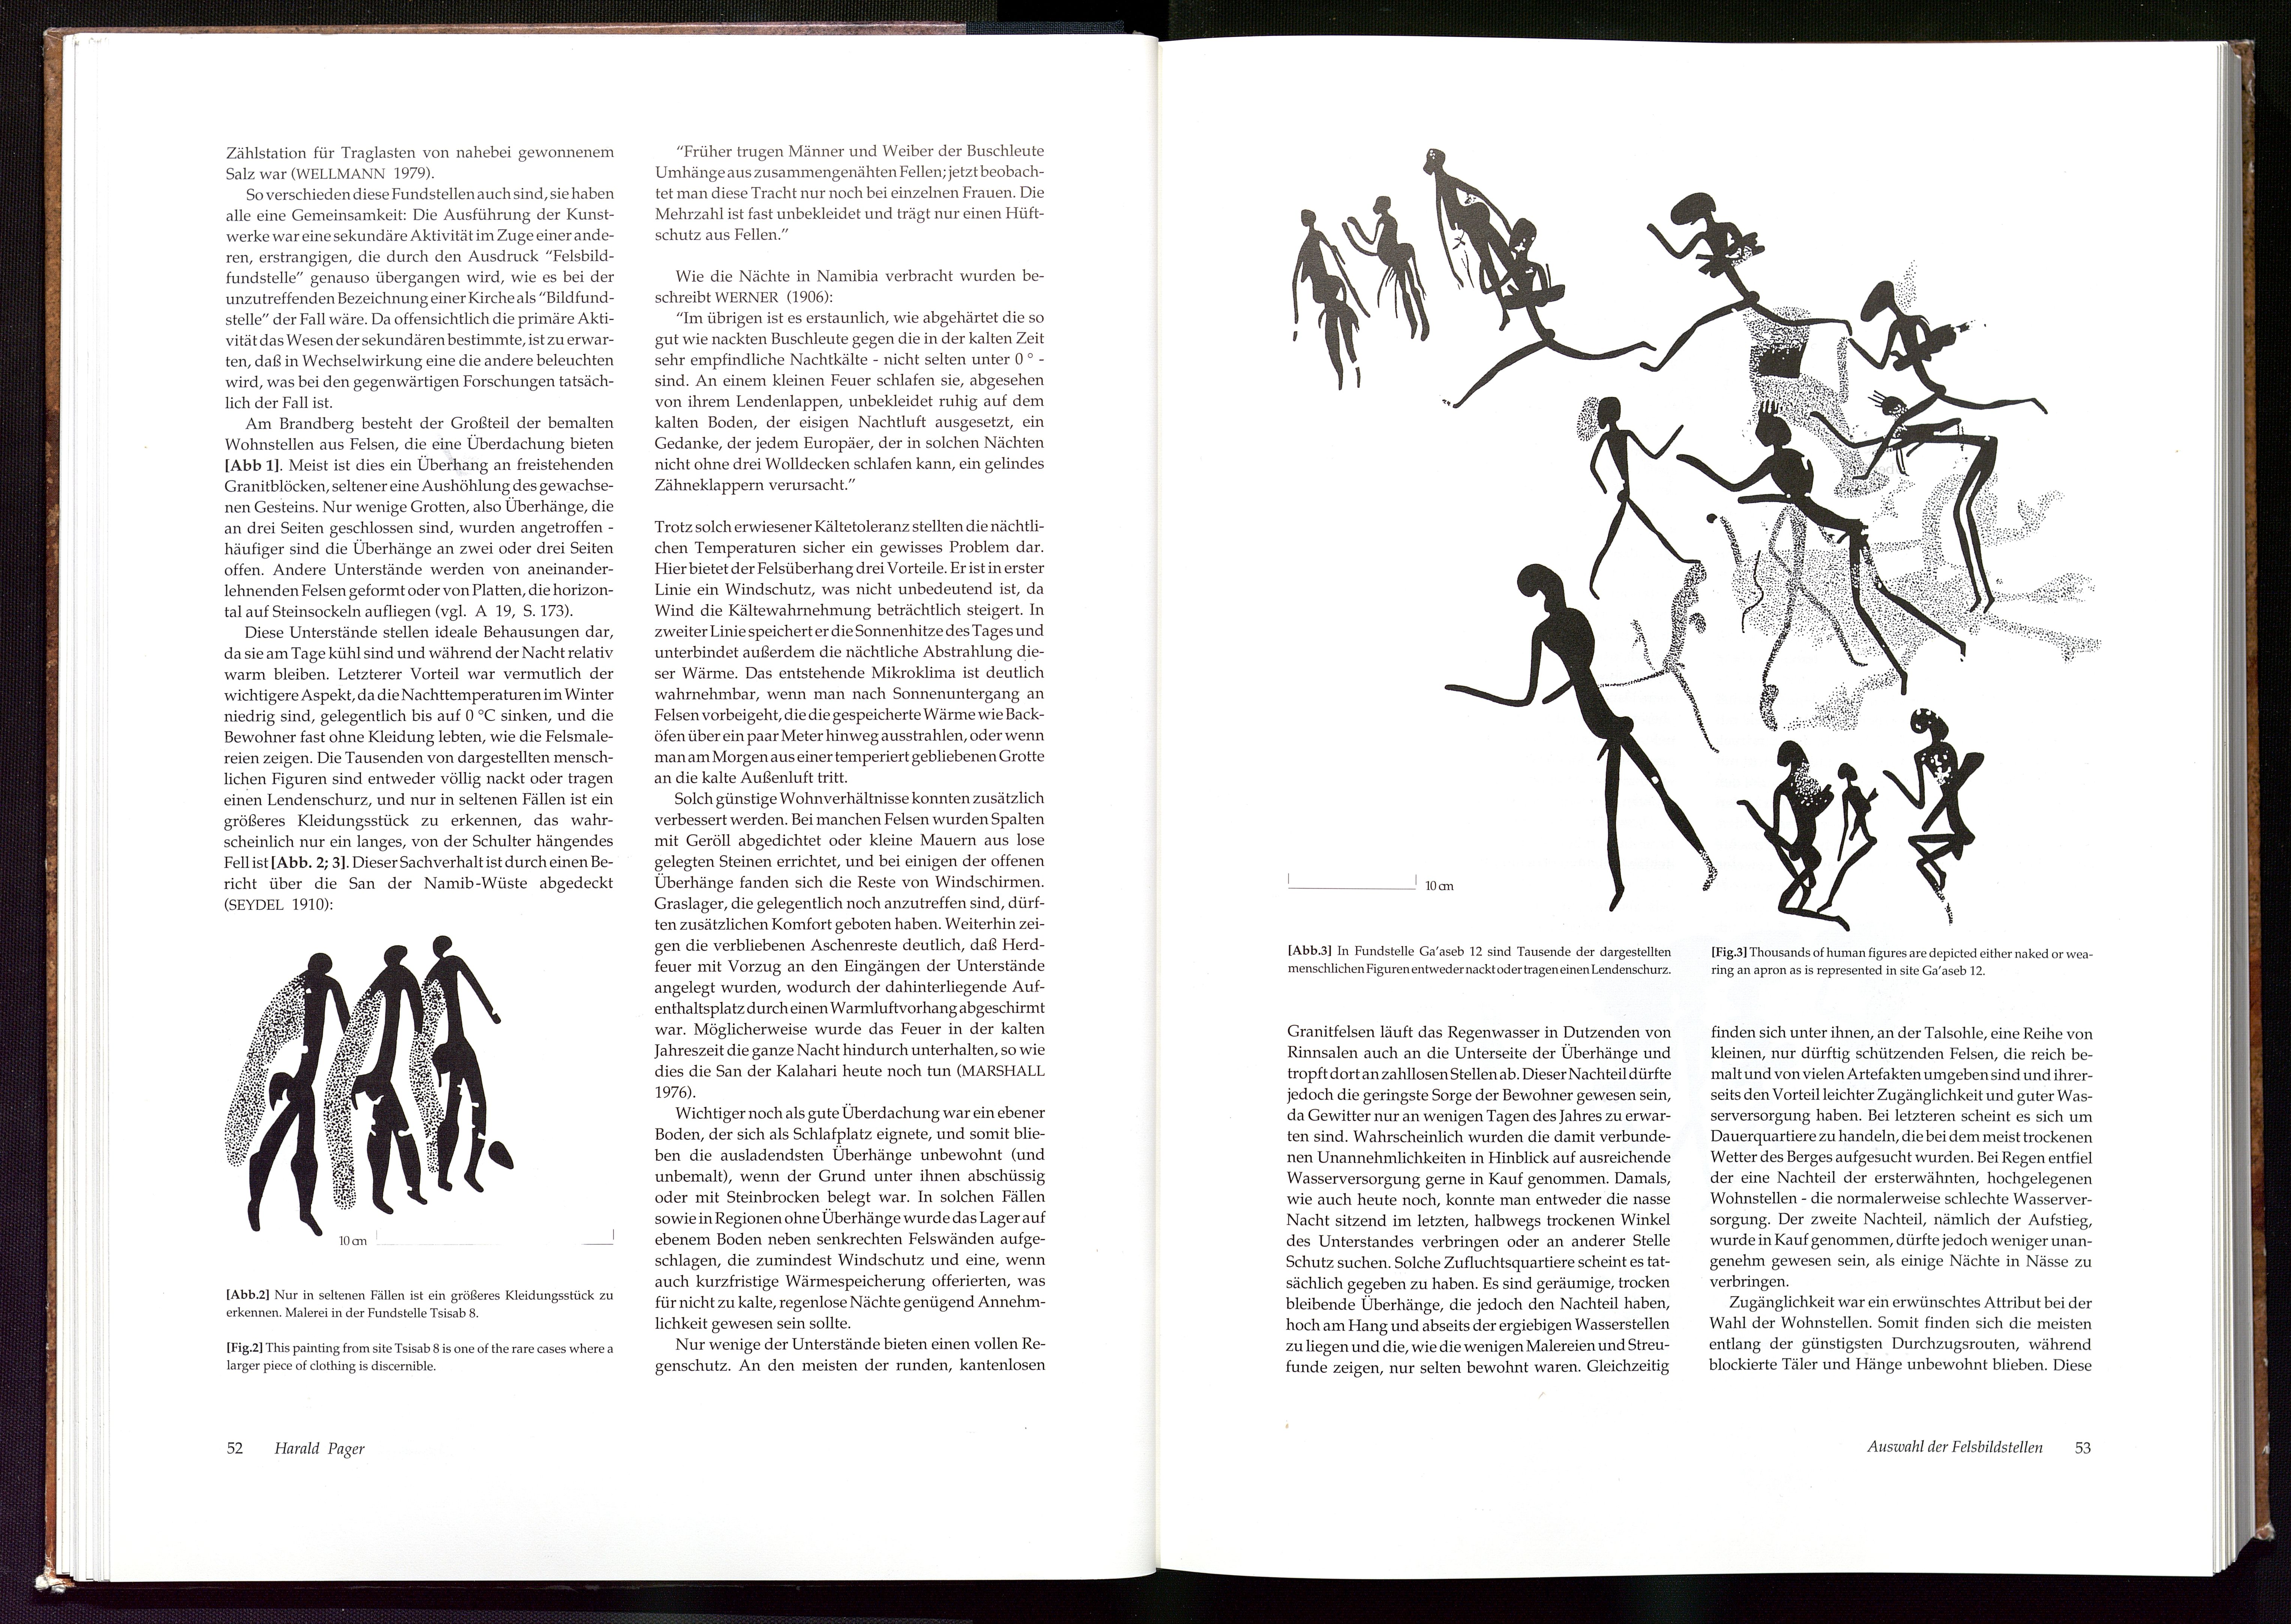human: (1442, 561, 1721, 918), (1673, 411, 1970, 699), (1810, 388, 2003, 619), (1438, 216, 1660, 414), (1844, 277, 2053, 484), (1637, 190, 1853, 378), (217, 952, 352, 1238), (318, 944, 430, 1216), (406, 935, 516, 1196), (1576, 394, 1706, 606), (1594, 561, 1727, 757), (1879, 705, 1988, 928), (1733, 738, 1852, 938), (1420, 145, 1534, 333), (1283, 204, 1370, 394), (1342, 193, 1432, 346), (1814, 760, 1885, 913)
